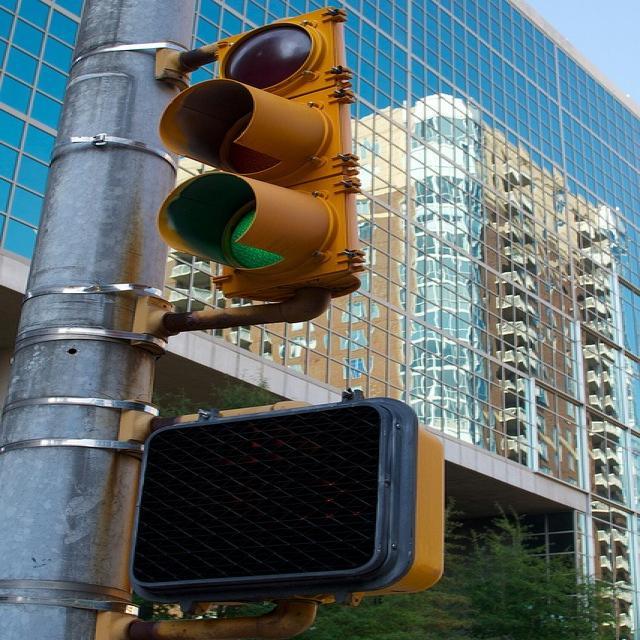pole: (3, 0, 208, 636)
